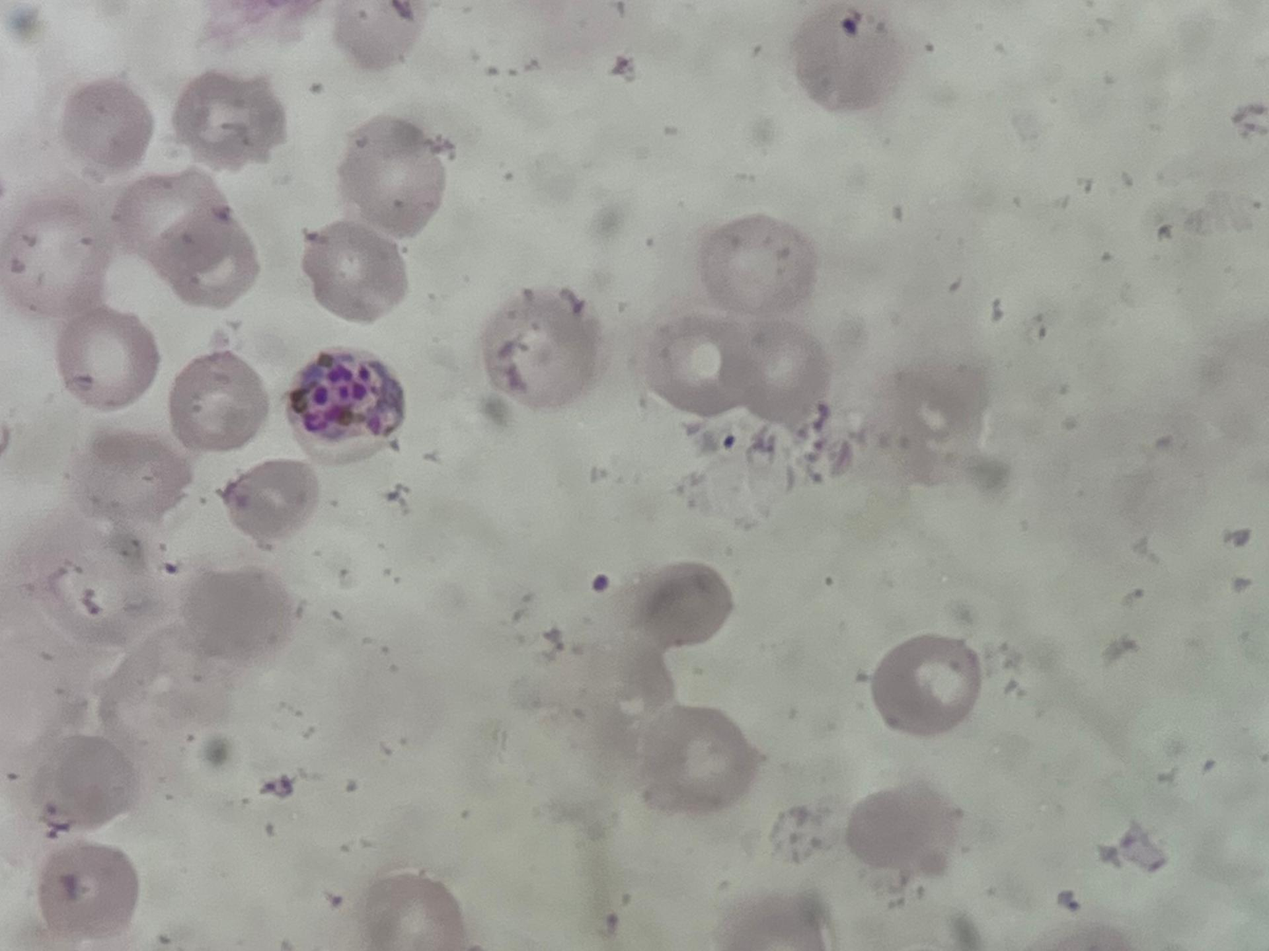Infected: (285, 346, 403, 457)
Uninfected: (481, 286, 603, 406), (0, 192, 113, 317), (634, 704, 760, 813), (337, 119, 445, 236), (791, 3, 908, 111), (641, 309, 751, 417), (117, 166, 226, 274), (74, 428, 192, 527), (172, 73, 286, 175), (870, 634, 984, 736), (702, 214, 818, 311), (28, 731, 139, 832), (157, 205, 263, 310), (845, 783, 964, 876), (304, 223, 410, 325), (57, 309, 161, 411), (168, 350, 270, 452), (36, 841, 139, 941), (627, 559, 736, 652), (59, 80, 153, 177), (360, 870, 467, 951), (219, 459, 317, 546), (740, 324, 826, 423)
